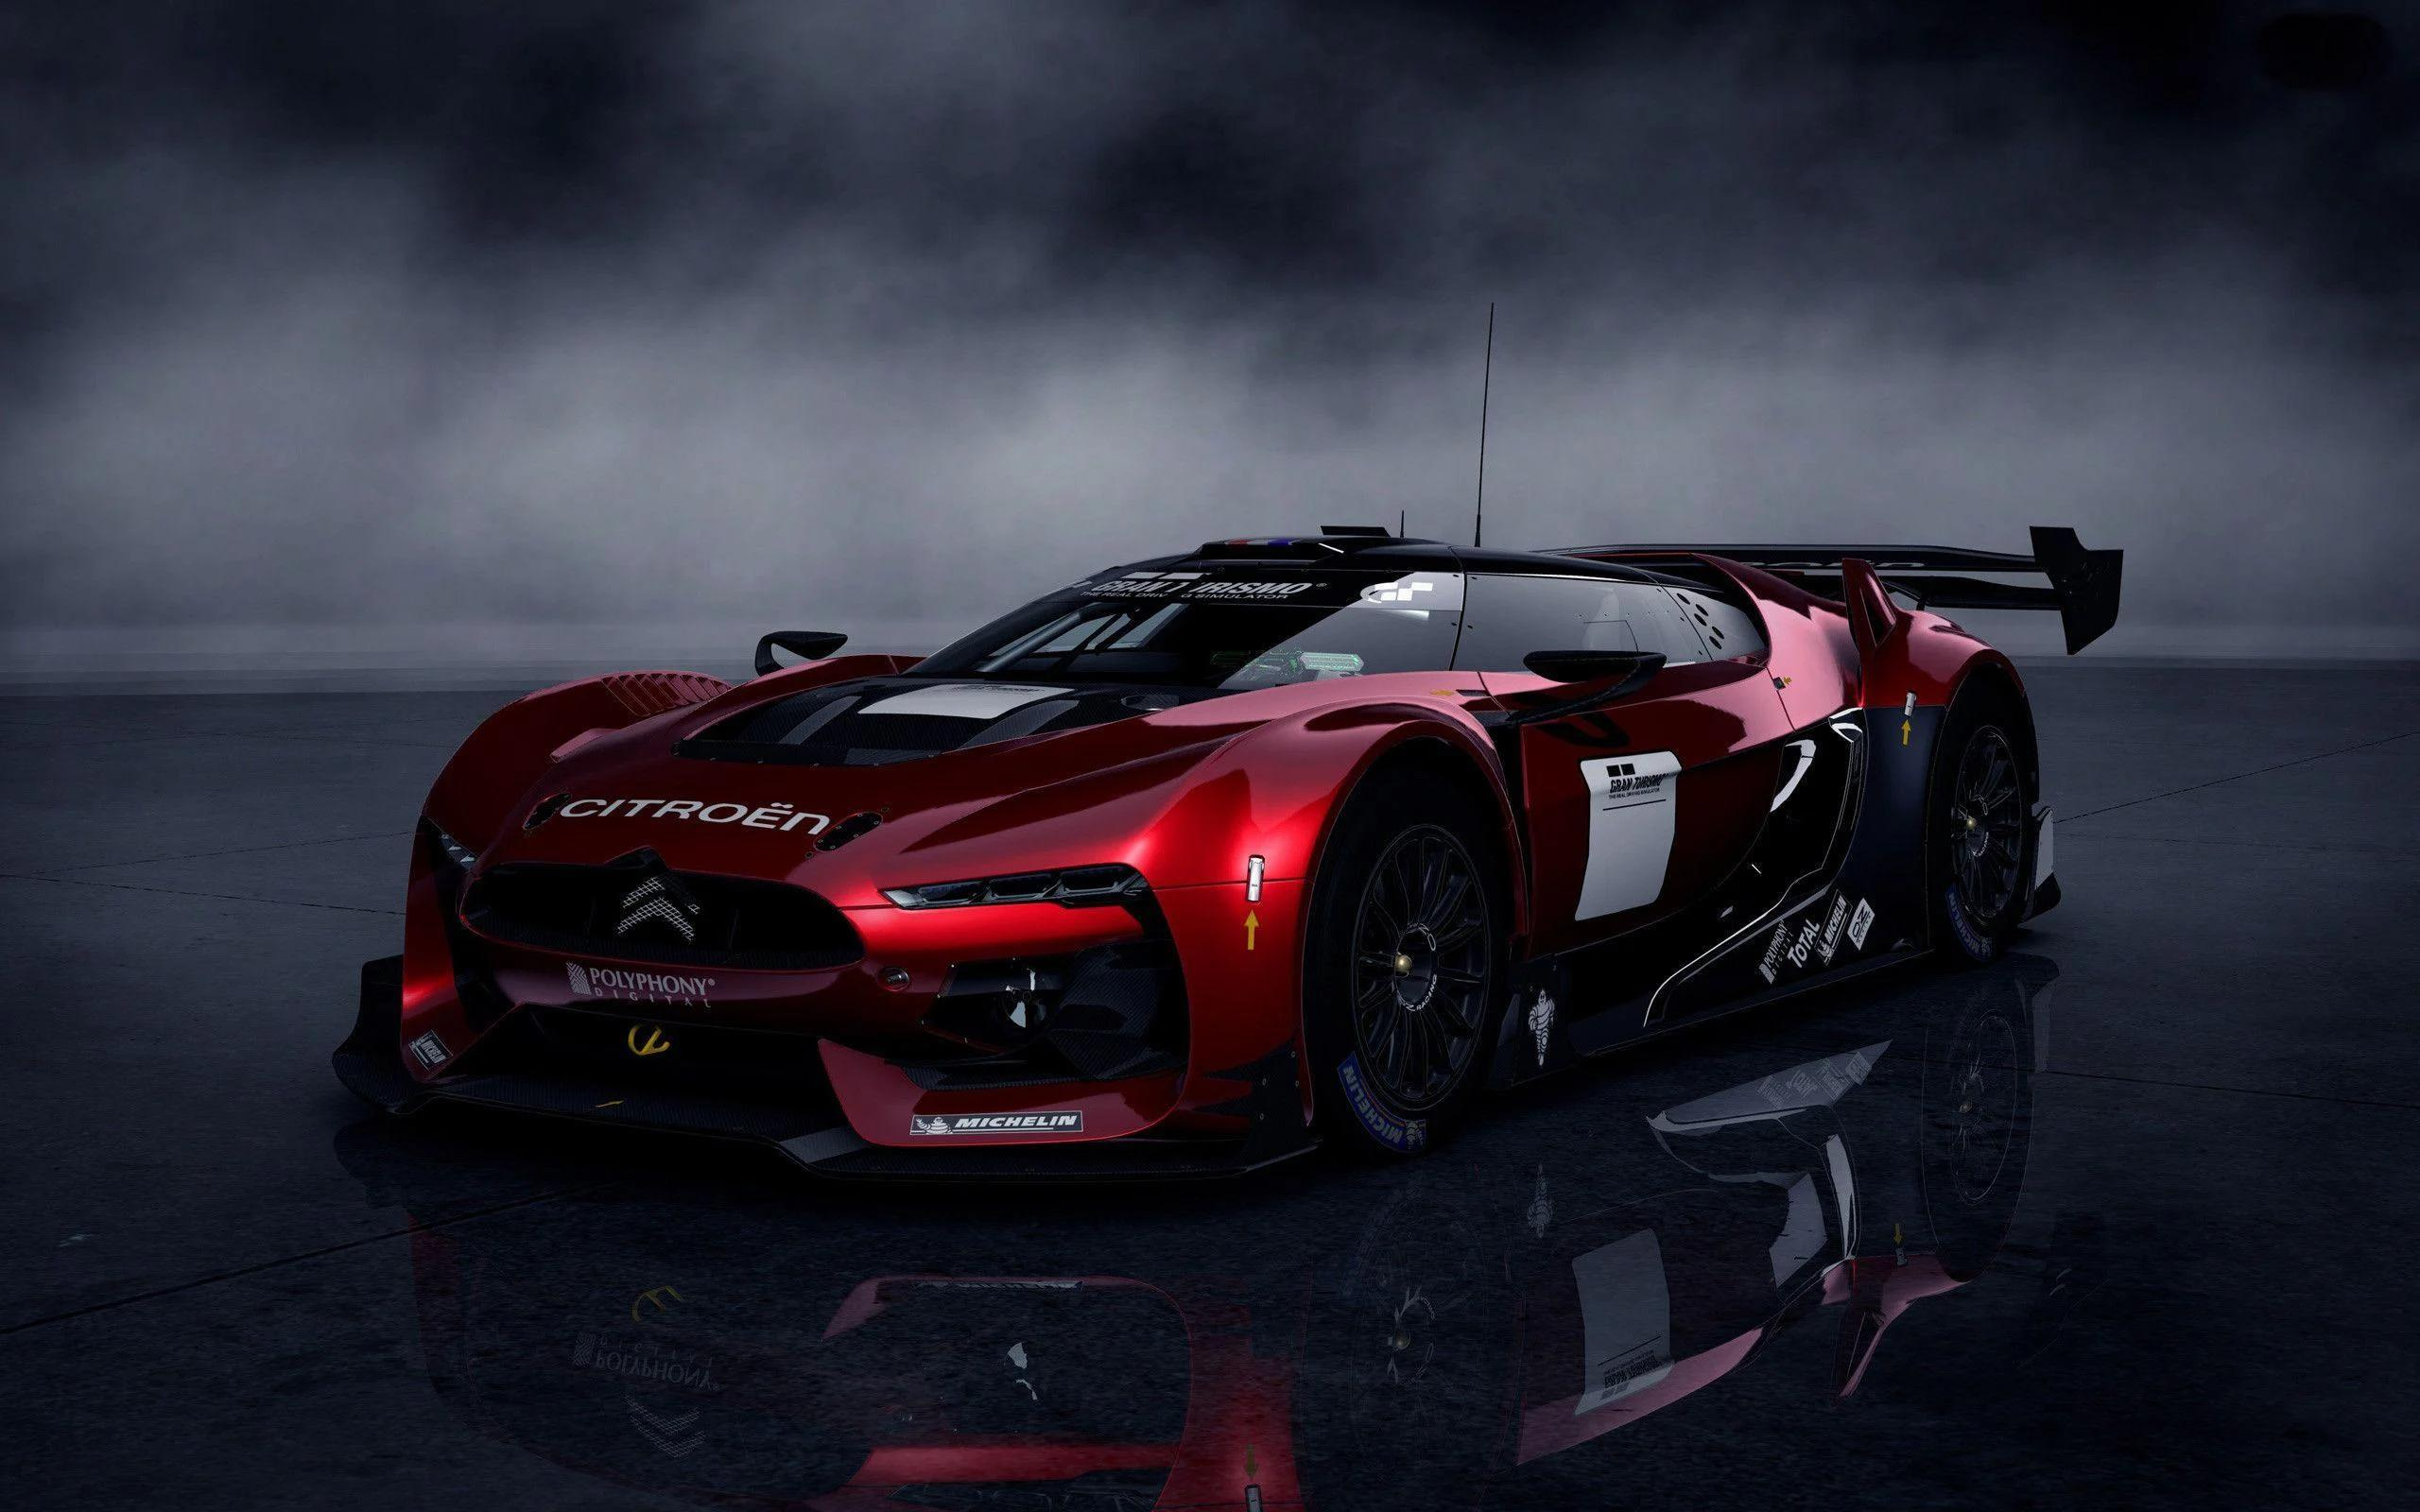Car: (371, 470, 2139, 1174)
